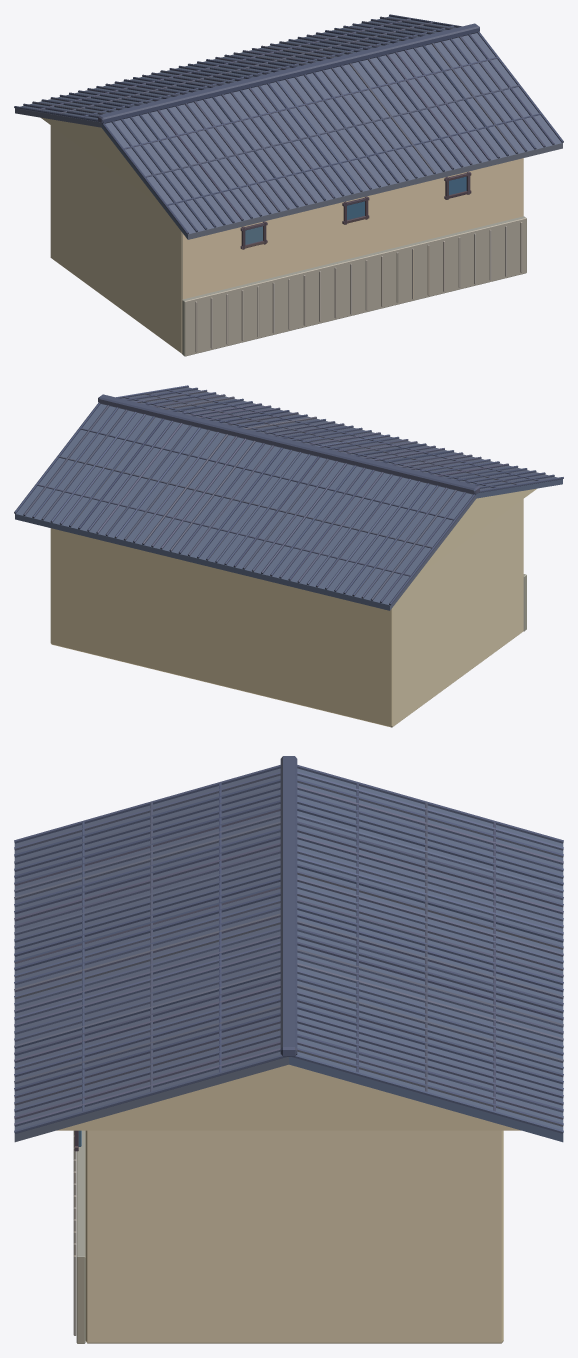
Rendered from ART_ParkingPavilion.glb.
The picture shows the model from 3 angles, top to bottom: view 1: azimuth 30°, elevation 25°; view 2: azimuth 150°, elevation 25°; view 3: azimuth 270°, elevation 25°; orthographic projection. The views are drawn at different scales.
Visible parts, largest first — view 1: ART_ParkingPavilion; view 2: ART_ParkingPavilion; view 3: ART_ParkingPavilion.
Boxes of the visible parts, x1,y1,x2,y2 form: ART_ParkingPavilion: (14, 14, 563, 356); ART_ParkingPavilion: (14, 385, 563, 727); ART_ParkingPavilion: (14, 756, 563, 1343).
Size of the model in its own units: 9.28 by 4.59 by 7.37.
